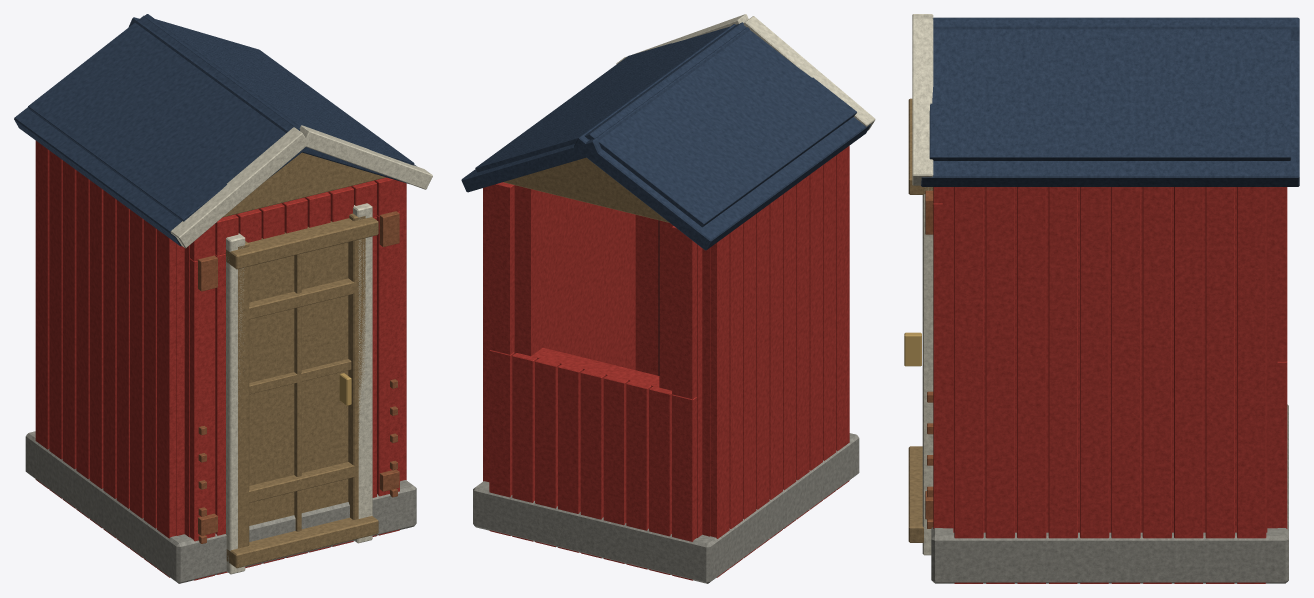
Rendered from OUTHOUS2_lod0.glb.
3 views of the same model, side by side, from view 1: azimuth 30°, elevation 25°; view 2: azimuth 150°, elevation 25°; view 3: azimuth 270°, elevation 25° (orthographic). The views are drawn at different scales.
Visible parts, largest first — view 1: OUTHOUS2_LOD0; view 2: OUTHOUS2_LOD0; view 3: OUTHOUS2_LOD0.
Boxes of the visible parts, <box> form: OUTHOUS2_LOD0: <box>14,14,432,583</box>; OUTHOUS2_LOD0: <box>461,14,875,583</box>; OUTHOUS2_LOD0: <box>904,14,1299,583</box>.
Bounding box in the file's own units: 1.96 × 3.16 × 2.26.
Materials: 11 (8 with a texture image).
